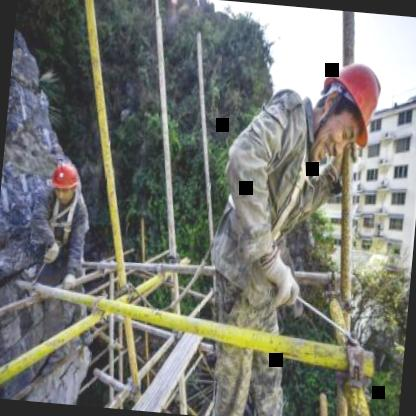helmet: (306, 45, 392, 179), (47, 157, 81, 209)
